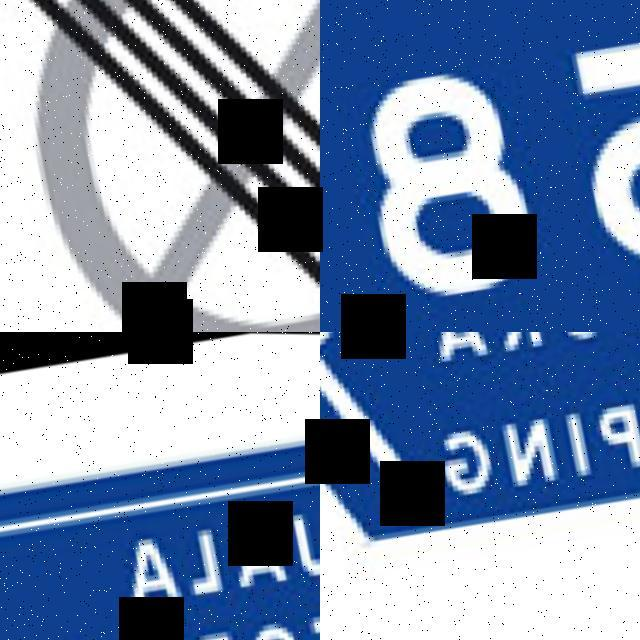106: (0, 384, 320, 640)
111: (0, 0, 320, 332)
3: (320, 332, 640, 569)
Direction sign exit sign: (320, 332, 640, 569)
Main highways: (320, 0, 640, 332)
two way traffic: (320, 332, 640, 640)
